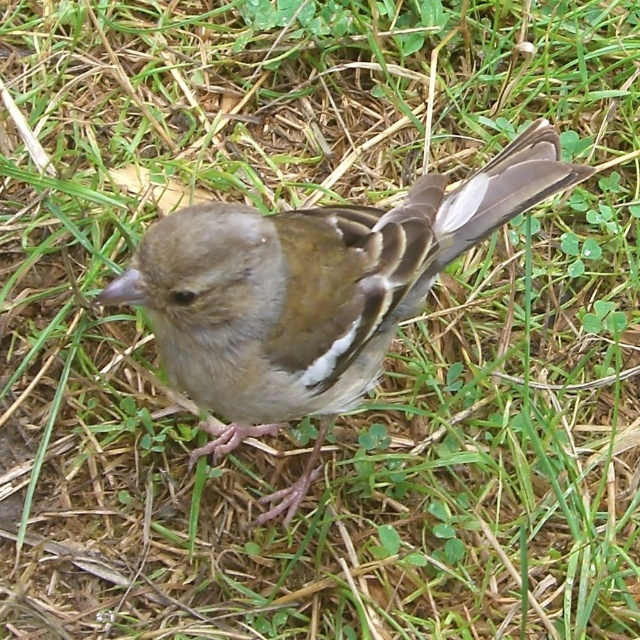Sparrow: (87, 116, 597, 532)
